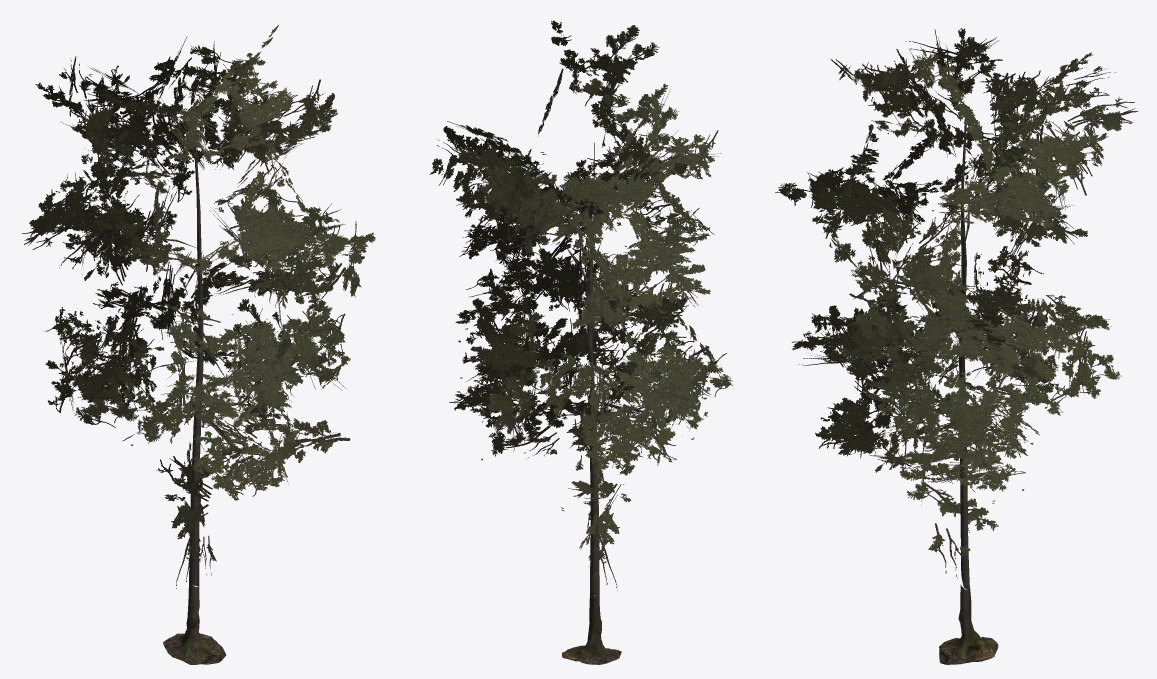
3 views of the same model, side by side, from view 1: azimuth 30°, elevation 25°; view 2: azimuth 150°, elevation 25°; view 3: azimuth 270°, elevation 25° (orthographic). The views are drawn at different scales.
Parts seen in each view (by area): view 1: pine_tree_01__b_lod2; view 2: pine_tree_01__b_lod2; view 3: pine_tree_01__b_lod2.
Part boxes in pixels (x1,y1,x2,y2): pine_tree_01__b_lod2: (22, 25, 375, 664); pine_tree_01__b_lod2: (429, 20, 733, 664); pine_tree_01__b_lod2: (775, 28, 1137, 664).
Size of the model in its own units: 7.5 by 14.91 by 7.86.
3 materials, 3 textured.
